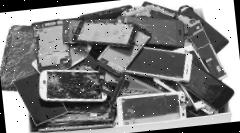electronic: (0, 0, 237, 133), (112, 33, 204, 95), (36, 61, 120, 122), (115, 85, 190, 131), (31, 13, 78, 78)
